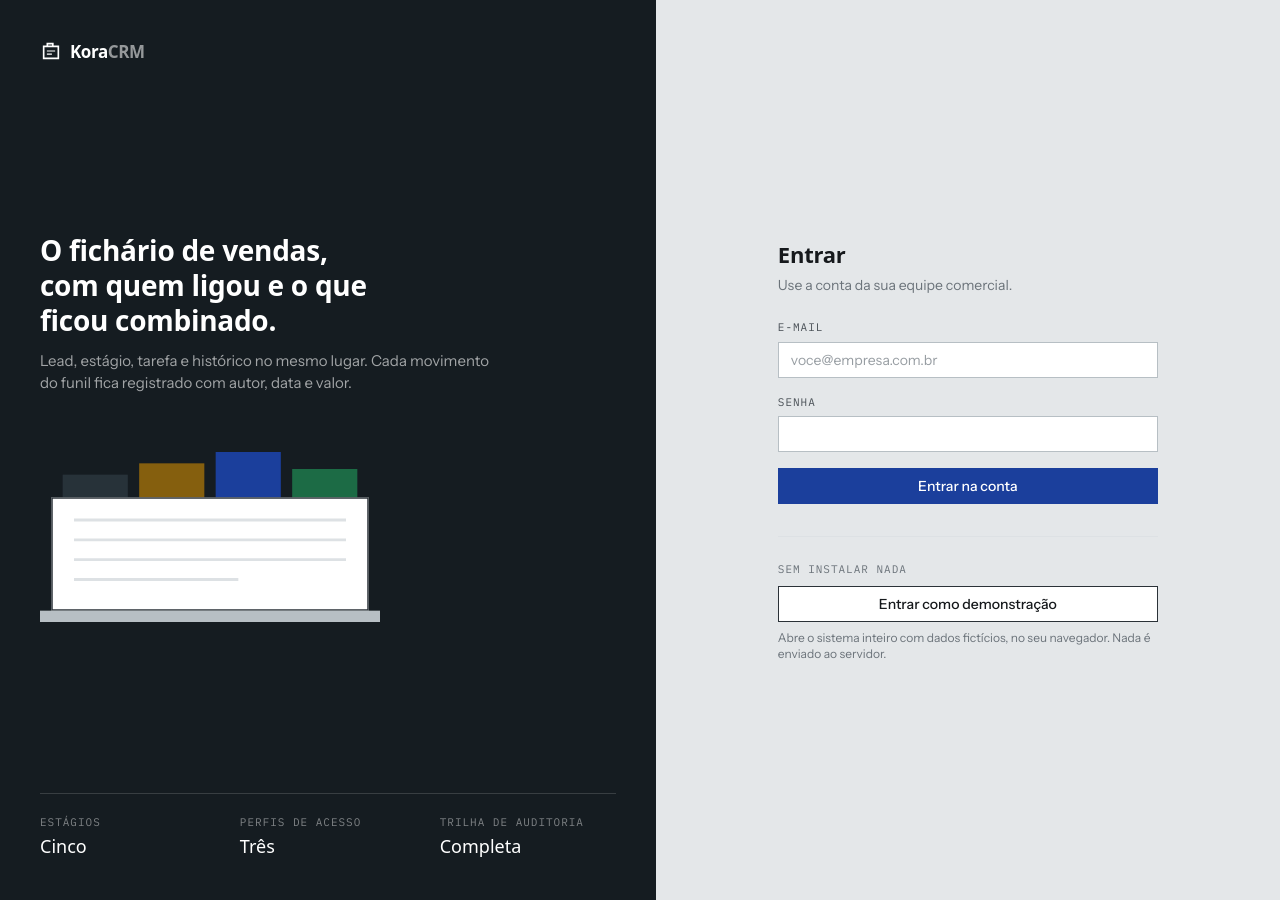
Scenario: FormLogin › mostra erro de validação para senha curta
Type "valido@email.com" into the field labelled "E-mail" at (968, 360), box x1=778 y1=342 x2=1158 y2=378
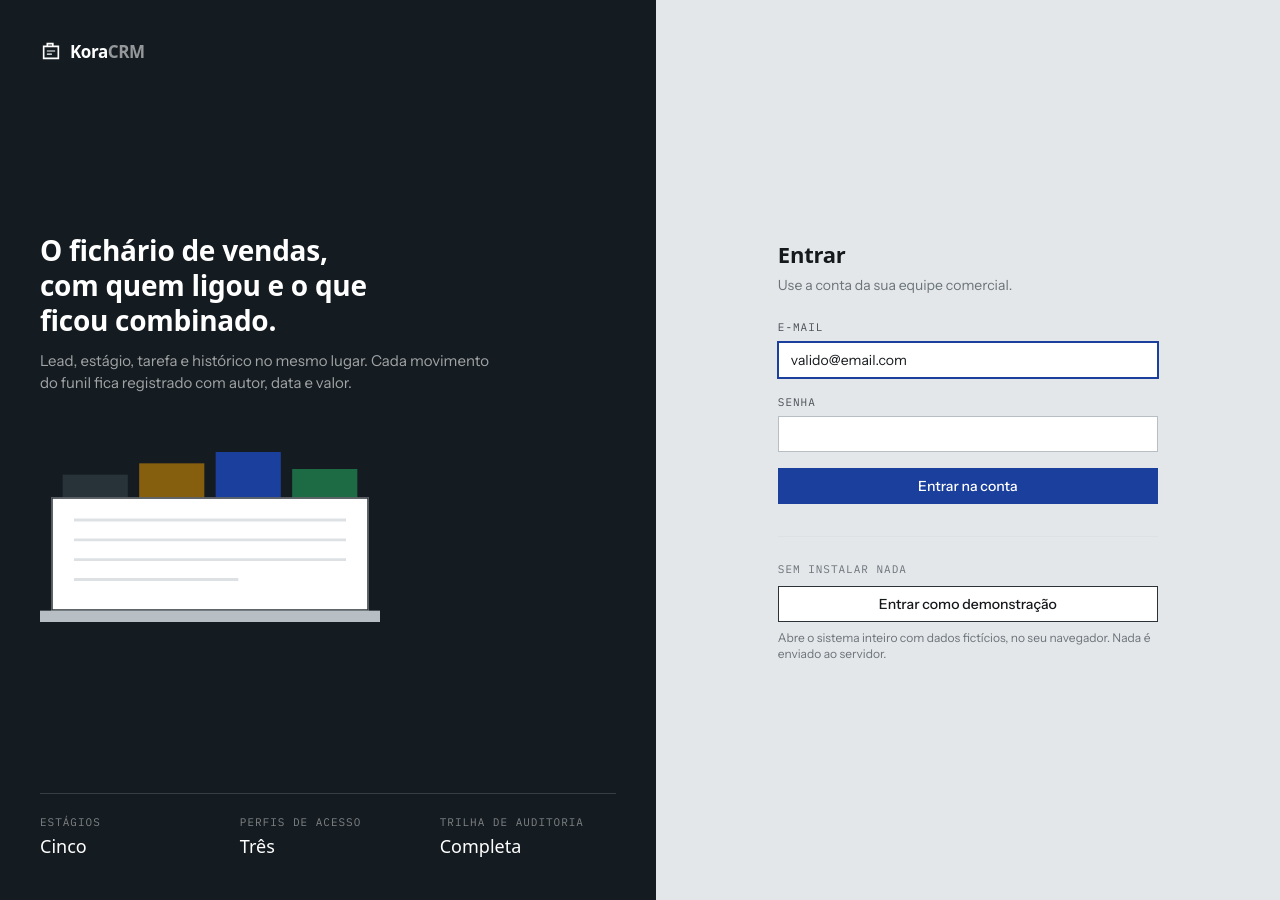
Type "123" into the password field labelled "Senha" at (968, 434), box x1=778 y1=416 x2=1158 y2=452
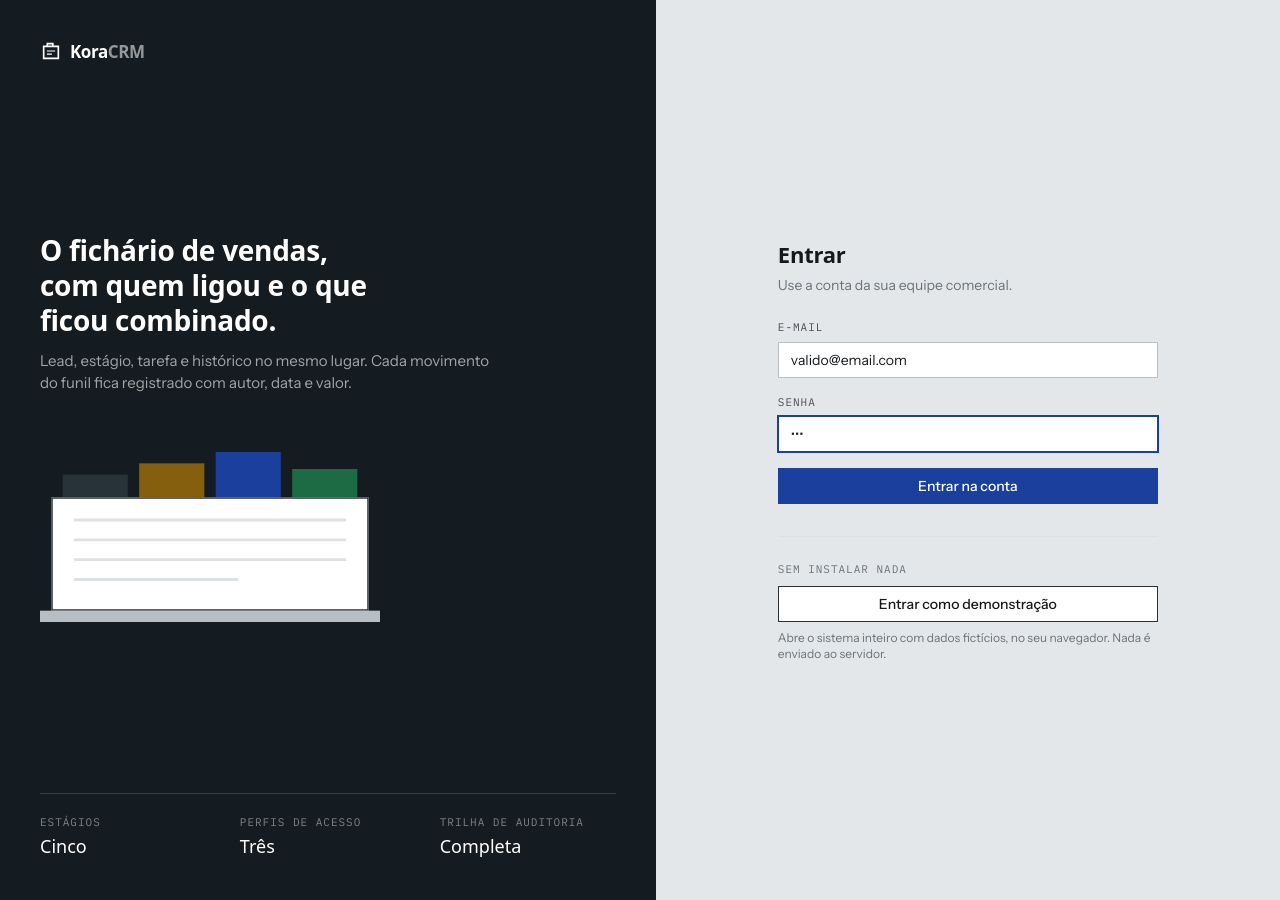
Click the button "Entrar na conta" at (968, 486), box x1=778 y1=468 x2=1158 y2=504
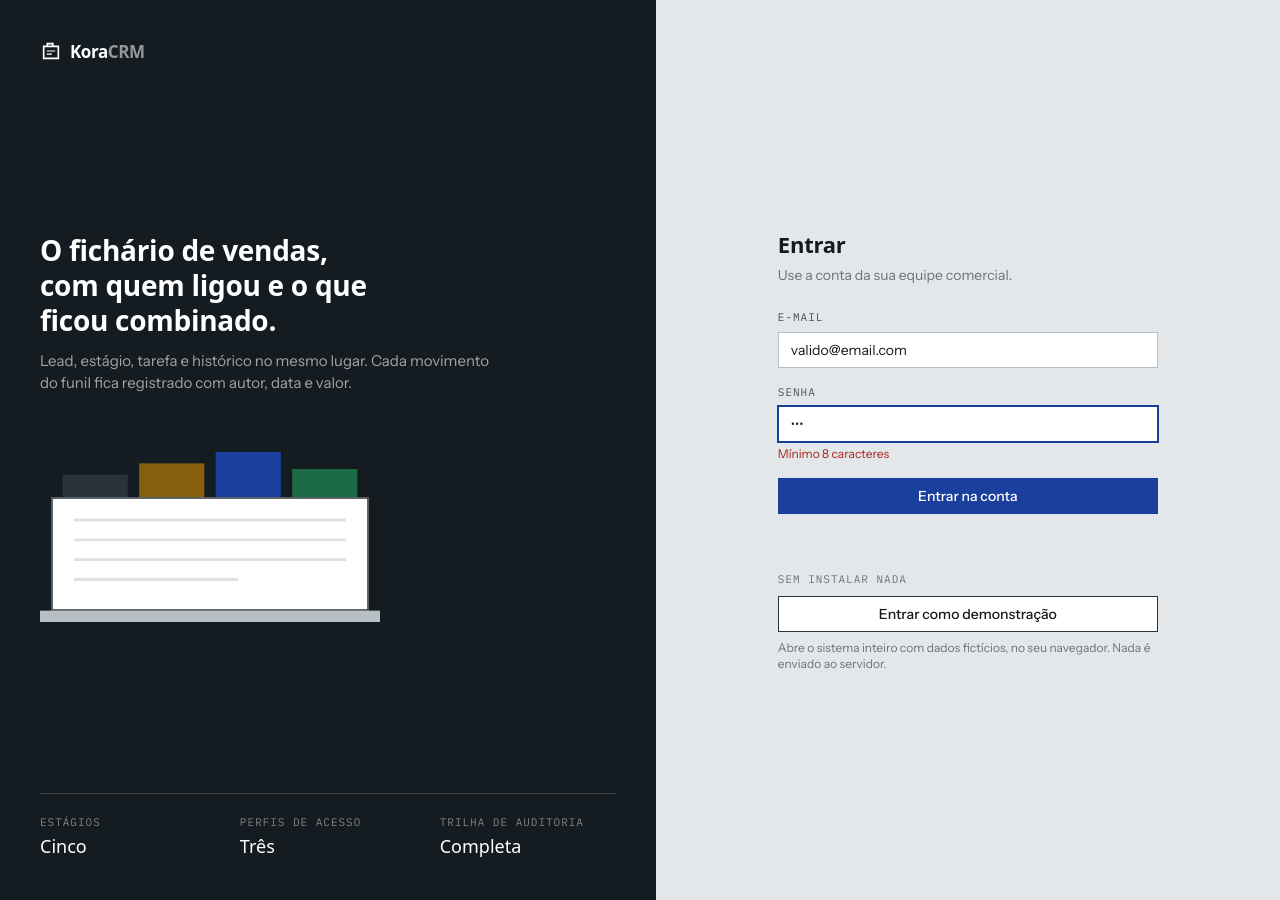
Expected: the text "Mínimo 8 caracteres" is shown, x1=778 y1=446 x2=889 y2=461
